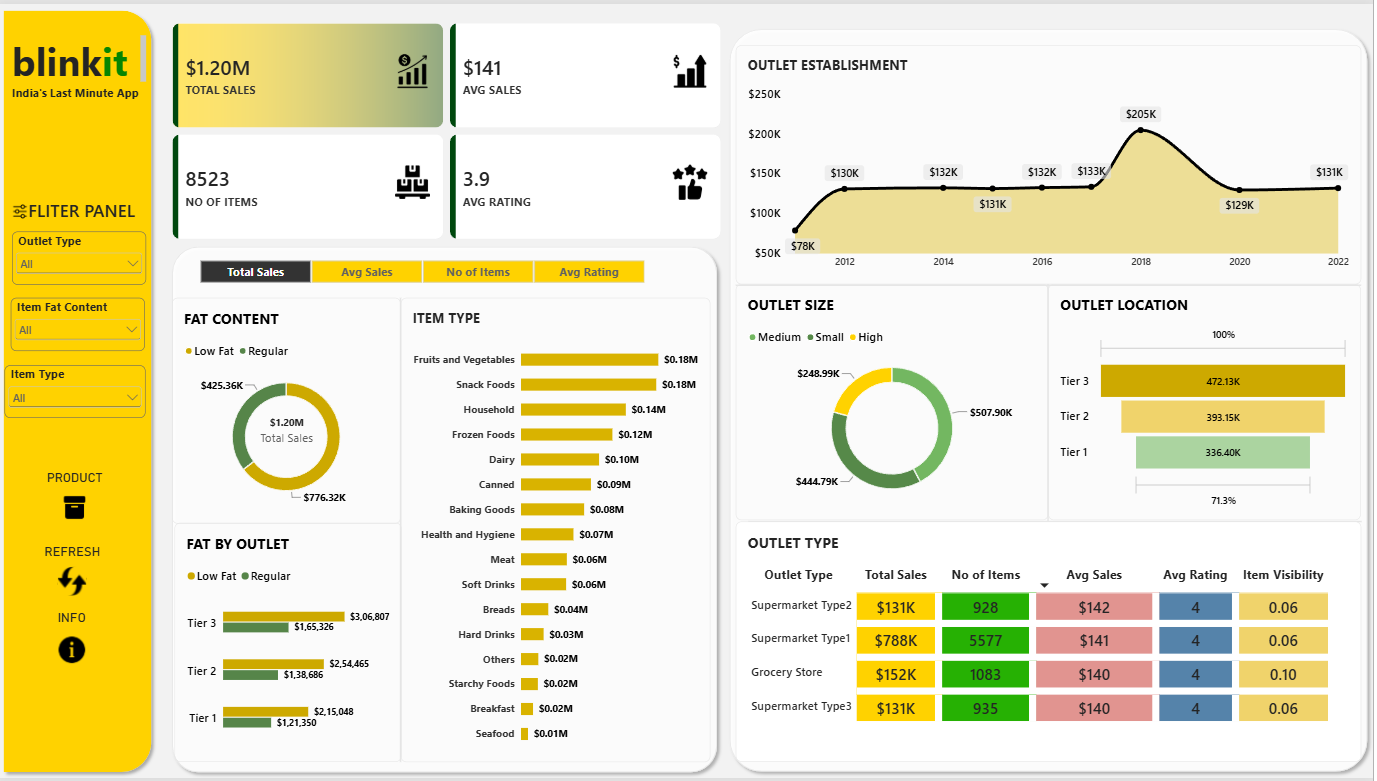

The dashboard page shown, as its layout file describes it:
{"tool":"powerbi","page":{"name":"HOME PAGE","canvas":[1920,1080],"ordinal":0},"visuals":[{"type":"shape","box":[0,0,224.4,1080.6],"z":0},{"type":"textbox","box":[20.6,43.2,187.3,67.9],"z":1000},{"type":"textbox","box":[20.6,111.1,224.4,30.9],"z":2000},{"type":"cardVisual","fields":{"Data":["BlinkIT Grocery Data.Total Sales","BlinkIT Grocery Data.Avg Sales","BlinkIT Grocery Data.No of Items","BlinkIT Grocery Data.Avg Rating"]},"box":[244.9,26.8,767.8,302.6],"z":3000},{"type":"shape","box":[234.6,329.3,778,751.3],"z":4000},{"type":"slicer","fields":{"Values":["Matrics.Matrics"]},"box":[263.5,356.1,658.7,35],"z":5000},{"type":"donutChart","title":"FAT CONTENT","fields":{"Category":["BlinkIT Grocery Data.Item Fat Content"],"Y":["BlinkIT Grocery Data.Total Sales"]},"box":[244.9,409.6,319,314.9],"z":6000},{"type":"cardVisual","fields":{"Data":["BlinkIT Grocery Data.Total Sales"]},"box":[343.7,568.1,121.4,55.6],"z":7000},{"type":"clusteredBarChart","title":"FAT BY OUTLET","fields":{"Category":["BlinkIT Grocery Data.Outlet Location Type"],"Series":["BlinkIT Grocery Data.Item Fat Content"],"Y":["BlinkIT Grocery Data.Total Sales"]},"box":[247,724.5,317,333.4],"z":8000},{"type":"shape","box":[247,695.7,317,57.6],"z":9000},{"type":"shape","box":[524.9,409.6,76.2,648.4],"z":10000},{"type":"barChart","title":"ITEM TYPE","fields":{"Category":["BlinkIT Grocery Data.Item Type"],"Y":["BlinkIT Grocery Data.Total Sales"]},"box":[564,409.6,432.2,648.4],"z":11000},{"type":"shape","box":[1012.7,26.8,907.7,1053.9],"z":12000},{"type":"lineChart","title":"OUTLET ESTABLISHMENT","fields":{"Category":["BlinkIT Grocery Data.Outlet Establishment Year"],"Y":["BlinkIT Grocery Data.Total Sales"]},"box":[1031.2,57.6,872.7,333.4],"z":13000},{"type":"shape","box":[1031.2,352,872.7,80.3],"z":14000},{"type":"pieChart","title":"OUTLET SIZE","fields":{"Category":["BlinkIT Grocery Data.Outlet Size"],"Y":["BlinkIT Grocery Data.Total Sales"]},"box":[1031.2,391.1,436.4,329.3],"z":15000},{"type":"funnel","title":"OUTLET LOCATION","fields":{"Category":["BlinkIT Grocery Data.Outlet Location Type"],"Y":["Sum(BlinkIT Grocery Data.Sales)"]},"box":[1467.6,391.1,436.4,329.3],"z":16000},{"type":"shape","box":[1047.7,681.3,856.3,80.3],"z":17000},{"type":"shape","box":[1428.5,391.1,76.2,331.4],"z":18000},{"type":"pivotTable","title":"OUTLET TYPE","fields":{"Rows":["BlinkIT Grocery Data.Outlet Type"],"Values":["BlinkIT Grocery Data.Total Sales","BlinkIT Grocery Data.No of Items","BlinkIT Grocery Data.Avg Sales","BlinkIT Grocery Data.Avg Rating","Avg(BlinkIT Grocery Data.Item Visibility)"]},"box":[1031.2,722.5,872.7,335.5],"z":19000},{"type":"slicer","fields":{"Values":["BlinkIT Grocery Data.Item Type"]},"box":[10.5,504.1,197.1,73.3],"z":20000},{"type":"slicer","fields":{"Values":["BlinkIT Grocery Data.Item Fat Content"]},"box":[18.5,409.6,187.3,74.1],"z":21000},{"type":"slicer","fields":{"Values":["BlinkIT Grocery Data.Outlet Type"]},"box":[20.9,317.4,187.3,74.1],"z":22000},{"type":"textbox","box":[43.2,271.7,181.1,57.6],"z":23000},{"type":"image","box":[10.3,279.9,43.2,20.6],"z":24000},{"type":"actionButton","title":"INFO","box":[54.3,845.2,100.2,89.7],"z":26001},{"type":"actionButton","title":"PRODUCT","box":[41.7,651.1,133.6,83.5],"z":26002},{"type":"actionButton","title":"REFRESH","box":[37.6,753.4,133.6,83.5],"z":26004}]}

Visuals, with their boxes in screenshot pixels (x1, y1, x2, y2), scaled from the page's 1920x1080 canvas onto the 1377x781 screenshot:
shape: crop(0, 0, 161, 780)
textbox: crop(15, 31, 149, 80)
textbox: crop(15, 80, 176, 103)
cardVisual - BlinkIT Grocery Data.Total Sales x BlinkIT Grocery Data.Avg Sales: crop(176, 19, 726, 238)
shape: crop(168, 238, 726, 780)
slicer - Matrics.Matrics: crop(189, 258, 661, 283)
"FAT CONTENT" donutChart: crop(176, 296, 404, 524)
cardVisual - BlinkIT Grocery Data.Total Sales: crop(246, 411, 334, 451)
"FAT BY OUTLET" clusteredBarChart: crop(177, 524, 404, 765)
shape: crop(177, 503, 404, 545)
shape: crop(376, 296, 431, 765)
"ITEM TYPE" barChart: crop(404, 296, 714, 765)
shape: crop(726, 19, 1376, 780)
"OUTLET ESTABLISHMENT" lineChart: crop(740, 42, 1365, 283)
shape: crop(740, 255, 1365, 313)
"OUTLET SIZE" pieChart: crop(740, 283, 1053, 521)
"OUTLET LOCATION" funnel: crop(1053, 283, 1366, 521)
shape: crop(751, 493, 1366, 551)
shape: crop(1025, 283, 1079, 522)
"OUTLET TYPE" pivotTable: crop(740, 522, 1365, 765)
slicer - BlinkIT Grocery Data.Item Type: crop(8, 365, 149, 418)
slicer - BlinkIT Grocery Data.Item Fat Content: crop(13, 296, 148, 350)
slicer - BlinkIT Grocery Data.Outlet Type: crop(15, 230, 149, 283)
textbox: crop(31, 196, 161, 238)
image: crop(7, 202, 38, 217)
"INFO" actionButton: crop(39, 611, 111, 676)
"PRODUCT" actionButton: crop(30, 471, 126, 531)
"REFRESH" actionButton: crop(27, 545, 123, 605)
